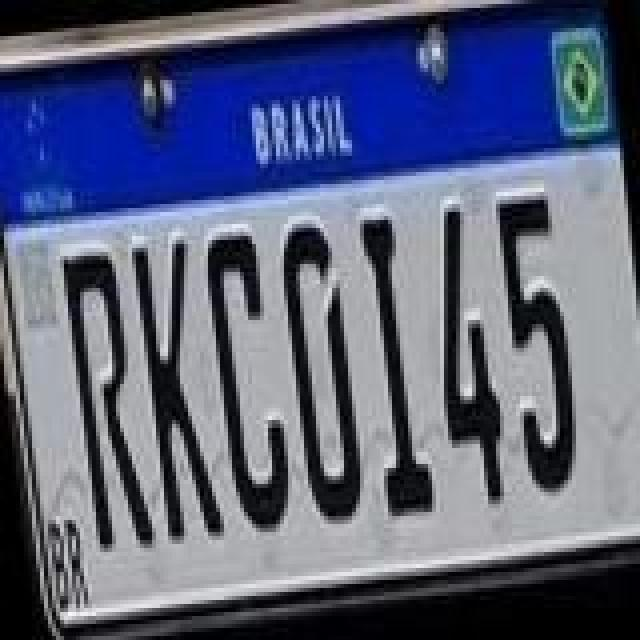4: (416, 200, 512, 512)
5: (492, 188, 588, 500)
C: (196, 224, 300, 544)
D: (272, 218, 368, 534)
I: (346, 212, 438, 524)
K: (126, 234, 226, 550)
R: (58, 242, 158, 558)
